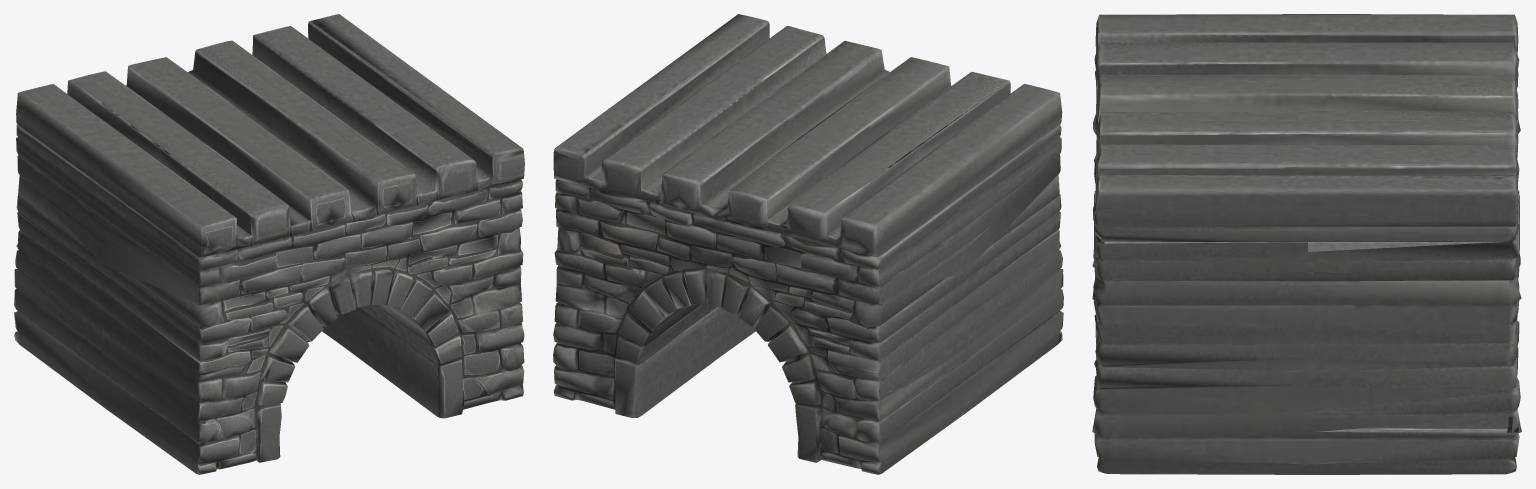
Rendered from stone-bridge.glb.
3 renders of one model, left to right at view 1: azimuth 30°, elevation 25°; view 2: azimuth 150°, elevation 25°; view 3: azimuth 270°, elevation 25°, orthographic. The views are drawn at different scales.
Size of the model in its own units: 0.9619 by 0.7031 by 0.9596.
Materials: 1 (1 with a texture image).
